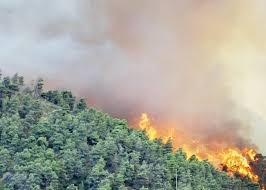fire: (133, 108, 263, 184)
